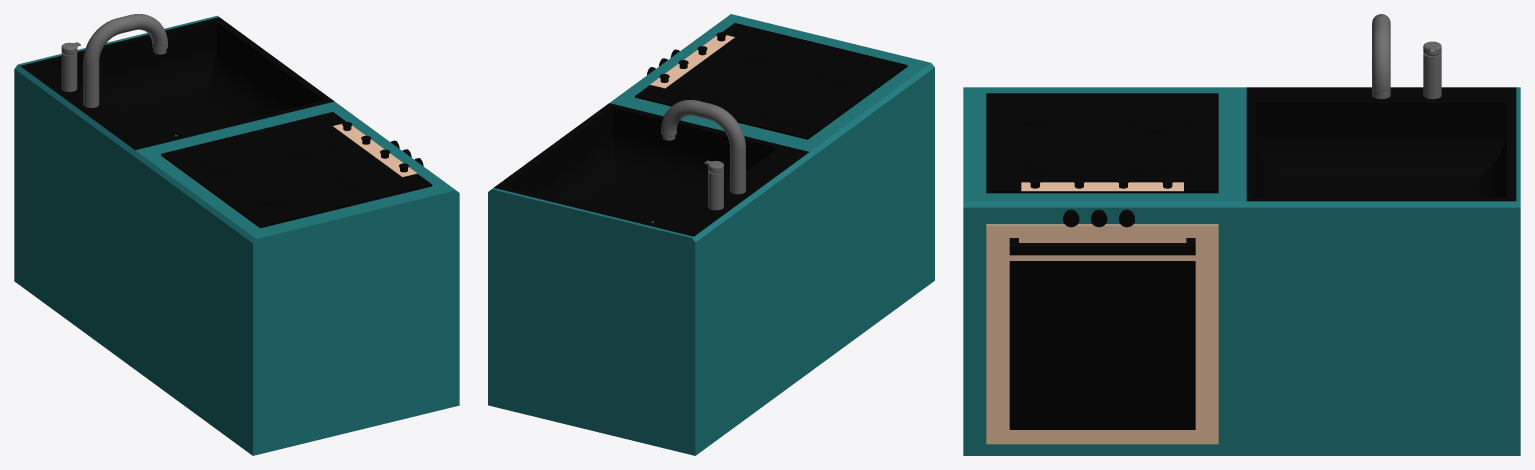
The model's file is forno e fornello.fbx.
The picture shows the model from 3 angles, left to right: view 1: azimuth 30°, elevation 25°; view 2: azimuth 150°, elevation 25°; view 3: azimuth 270°, elevation 25°; orthographic projection. The views are drawn at different scales.
Parts seen in each view (by area): view 1: Body1, corpo (×2), lavandino, pianocottura, forn1 (×4), rubinett, sbarra, maicotto; view 2: corpo (×2), Body1, lavandino, pianocottura, forn1 (×4), rubinett, sbarra, maicotto; view 3: corpo (×2), vetro, lavandino, Body1, sportellaccio, pianocottura, forn1 (×4), maniglia, rubinett, sbarra, maicotto.
Boxes of the visible parts, bbox=[...] form: Body1: bbox=[133, 103, 459, 455]; corpo (×2): bbox=[14, 15, 336, 368]; lavandino: bbox=[20, 17, 334, 150]; pianocottura: bbox=[161, 112, 432, 228]; forn1 (×4): bbox=[199, 129, 375, 205]; rubinett: bbox=[83, 14, 167, 107]; sbarra: bbox=[333, 124, 417, 177]; maicotto: bbox=[61, 52, 77, 91]; corpo (×2): bbox=[488, 101, 815, 455]; Body1: bbox=[611, 14, 934, 367]; lavandino: bbox=[494, 103, 808, 236]; pianocottura: bbox=[635, 23, 907, 139]; forn1 (×4): bbox=[682, 44, 859, 121]; rubinett: bbox=[661, 100, 745, 194]; sbarra: bbox=[650, 35, 734, 88]; maicotto: bbox=[708, 170, 723, 210]; corpo (×2): bbox=[1242, 87, 1520, 455]; vetro: bbox=[1009, 261, 1195, 429]; lavandino: bbox=[1246, 87, 1516, 201]; Body1: bbox=[963, 87, 1241, 455]; sportellaccio: bbox=[986, 224, 1218, 444]; pianocottura: bbox=[986, 93, 1218, 193]; forn1 (×4): bbox=[1021, 102, 1195, 176]; maniglia: bbox=[1009, 238, 1195, 255]; rubinett: bbox=[1372, 14, 1390, 99]; sbarra: bbox=[1021, 182, 1183, 191]; maicotto: bbox=[1423, 52, 1441, 99].
Size of the model in its own units: 78 by 144 by 98.4.
